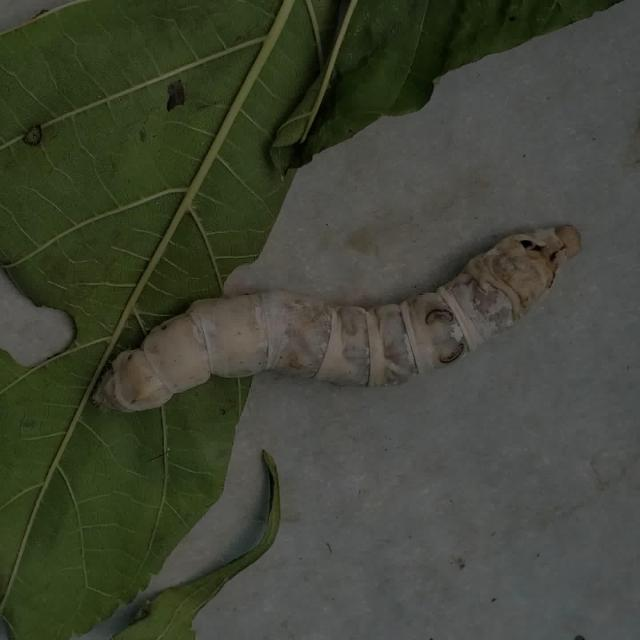Grasserie: (70, 182, 603, 473)
